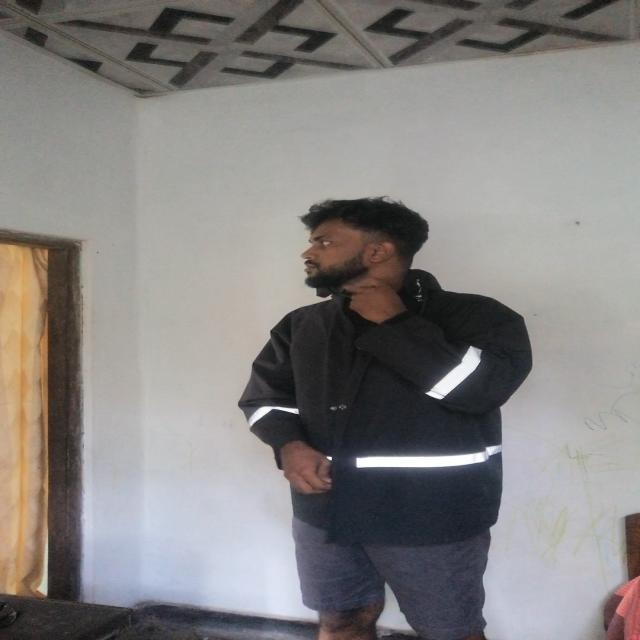Jacket_Wearer: (241, 278, 532, 526)
Person: (244, 195, 522, 637)
